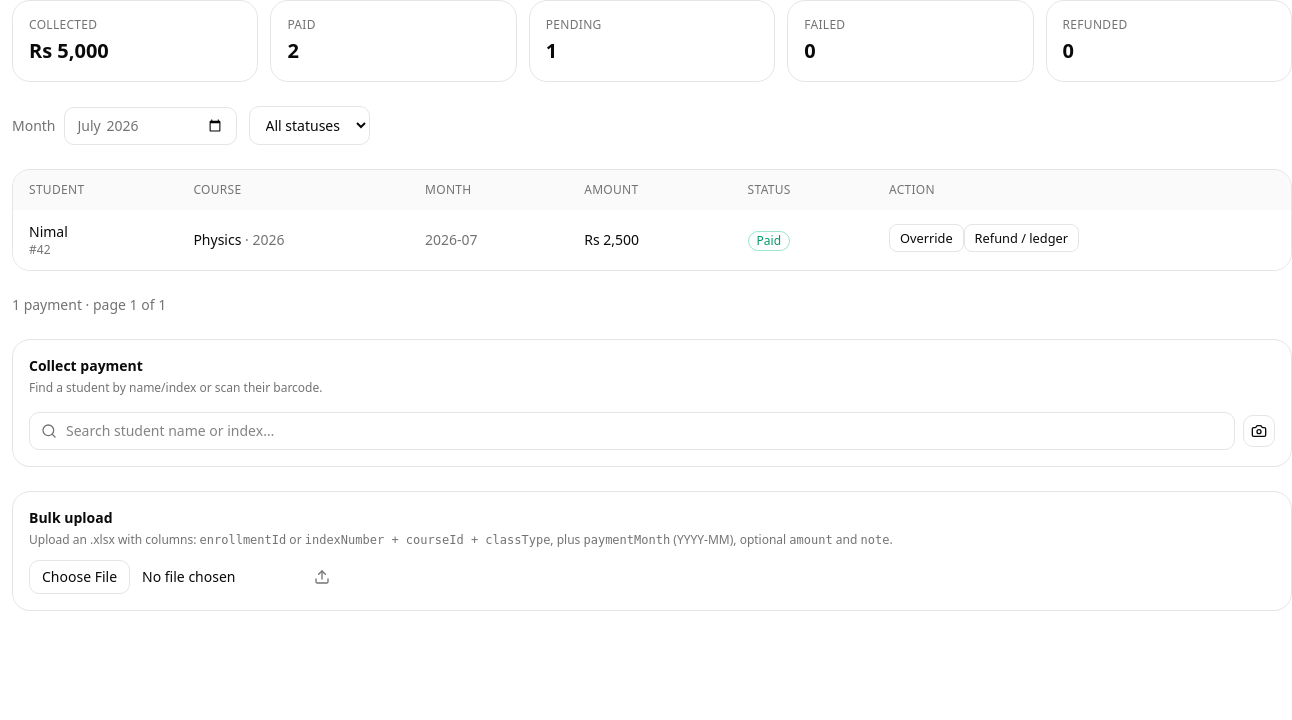
Test: AdminPayments — super-admin override › submits reviewed values with an idempotency key and refreshes the records
Click the button with aria-label "Override Nimal's payment".
click(926, 238)  # box [889,224,964,252]
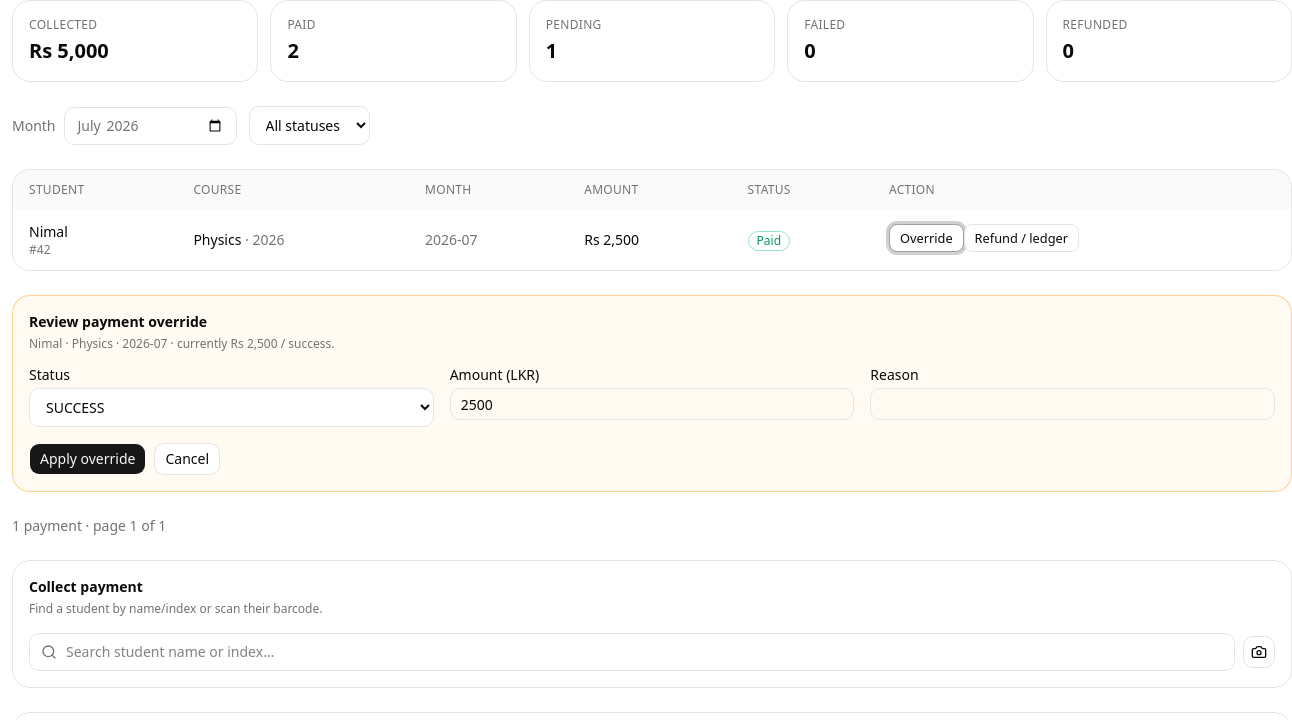
Select "FAILED" in the dropdown named "Override status" at [231, 408], box [29,388,434,427]
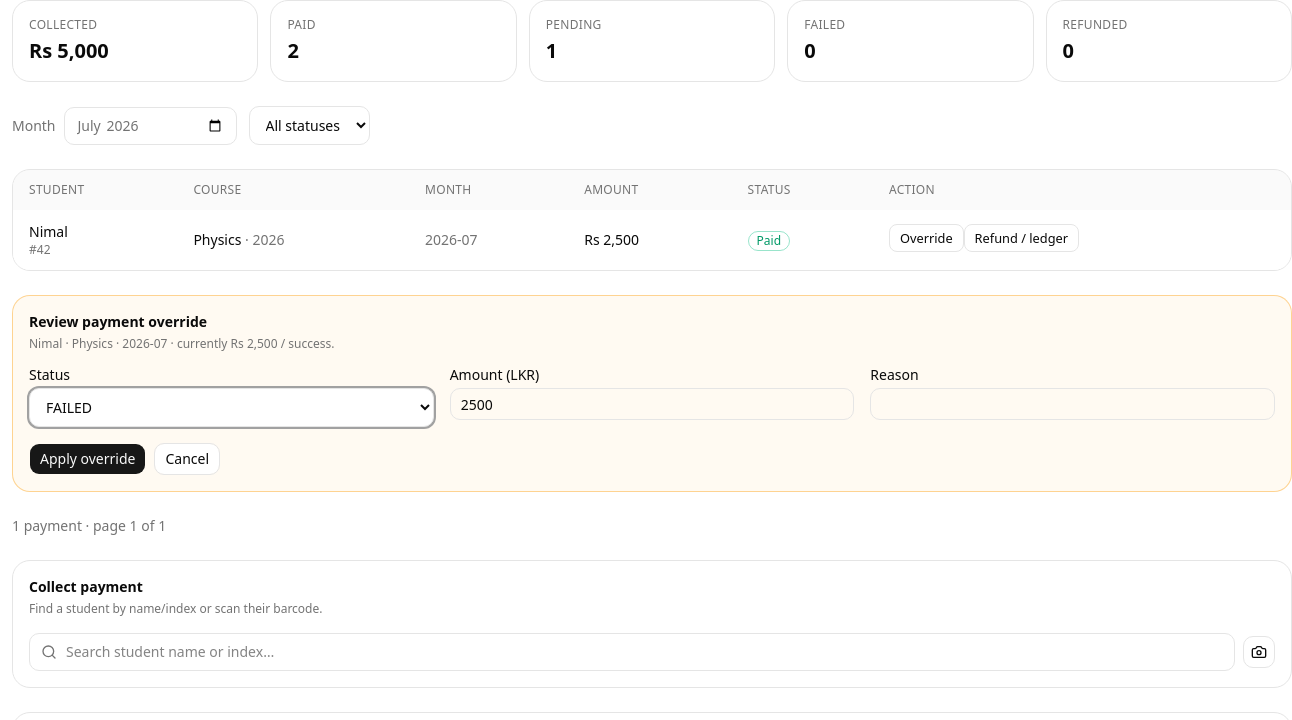
Replace the text in the number field named "Override amount" with "1800" at [652, 404], box [450,388,854,420]
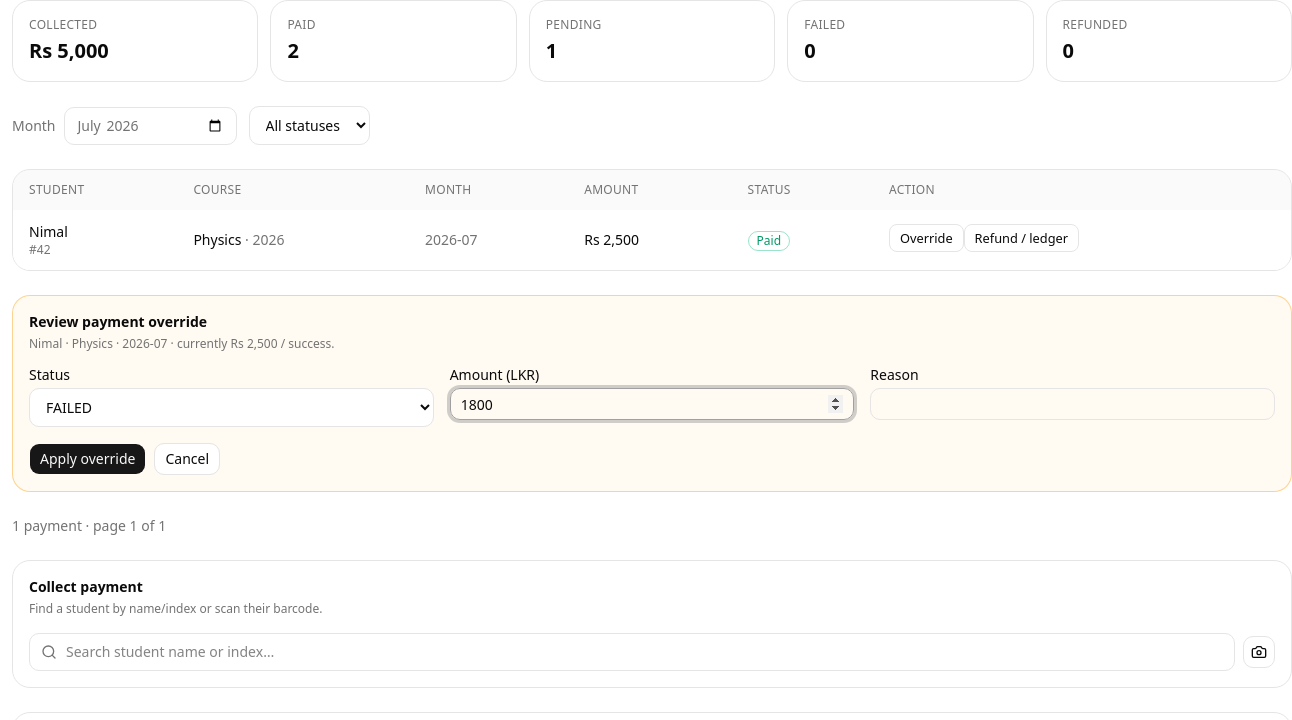
Type "Approved correction" into the field named "Override note".
click(1073, 404); type("Approved correction")  # box [870,388,1275,420]
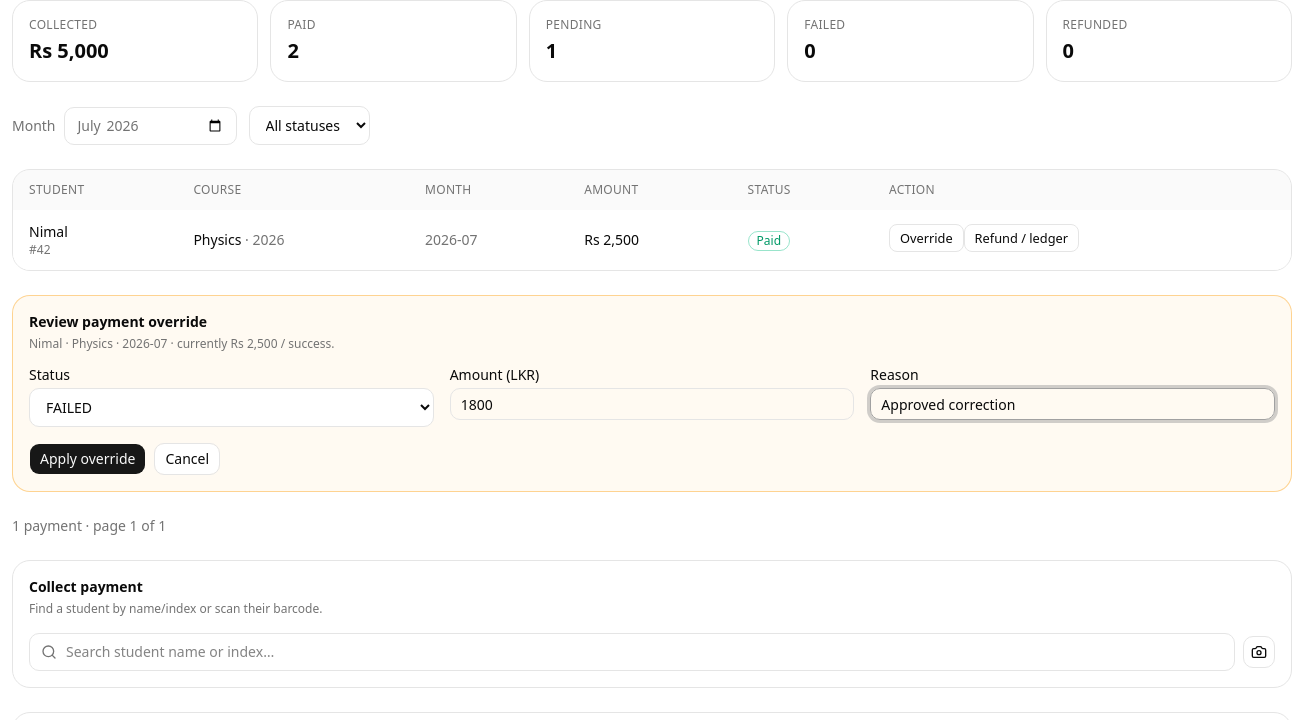
Click the button "Apply override".
click(88, 459)  # box [29,443,146,475]
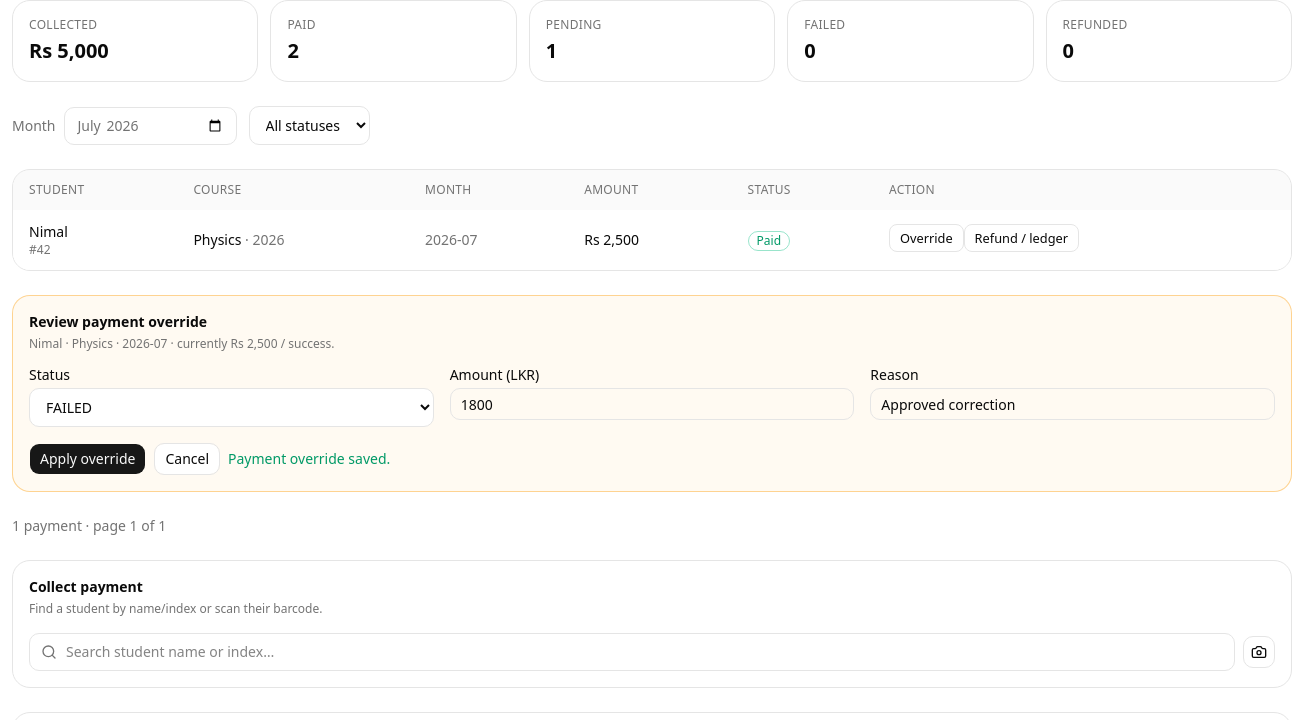
Result: the text "Payment override saved." is shown at [228,449,390,468]
